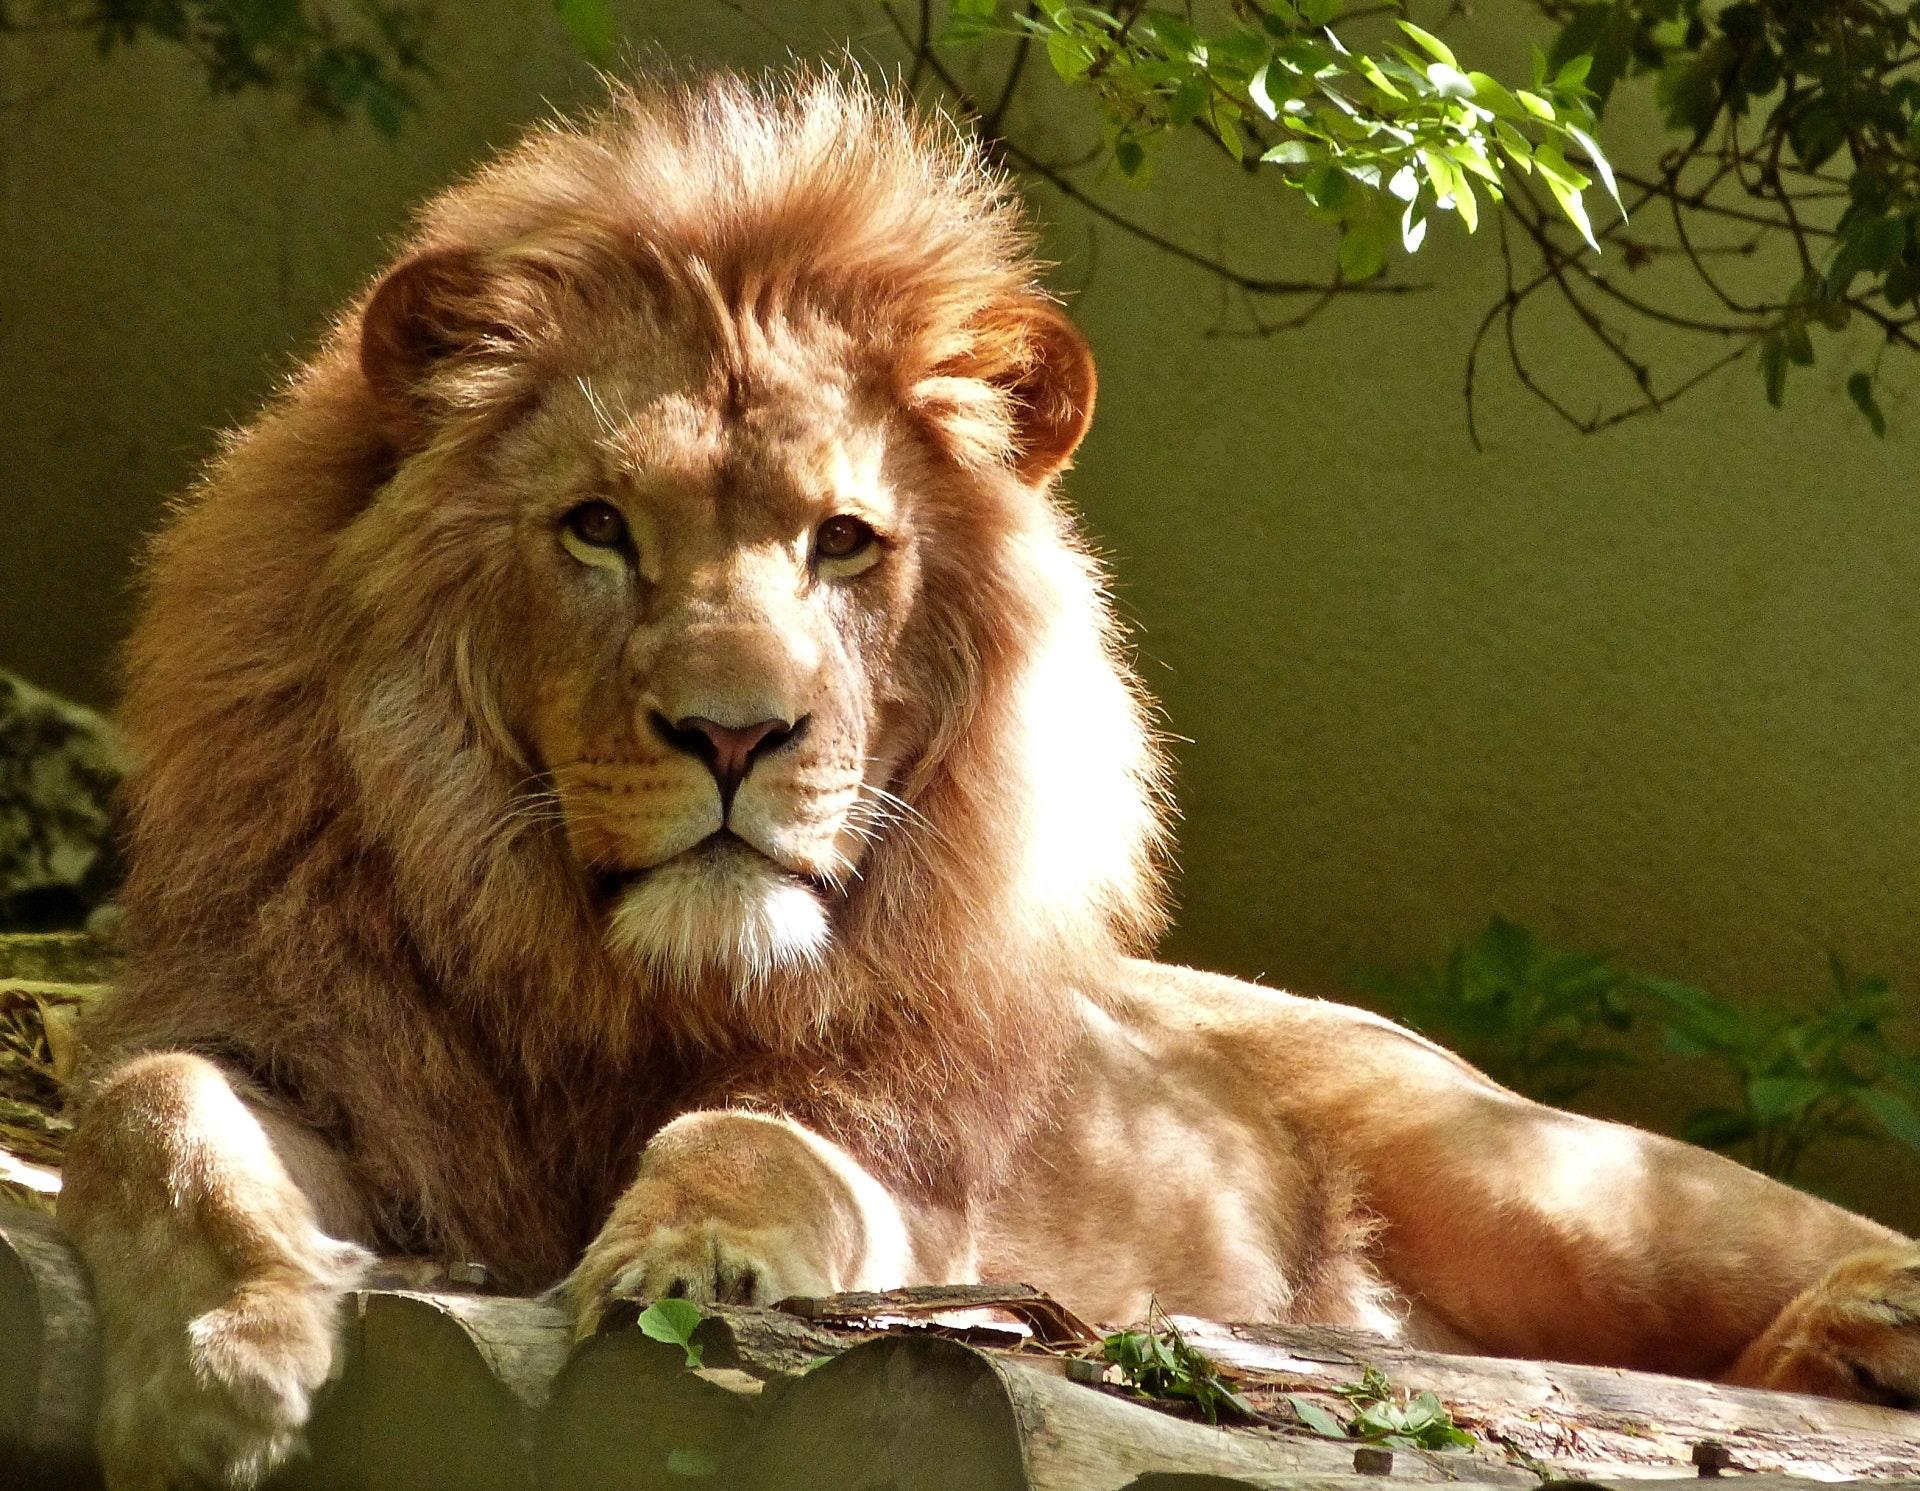lions: (0, 41, 1920, 1491)
